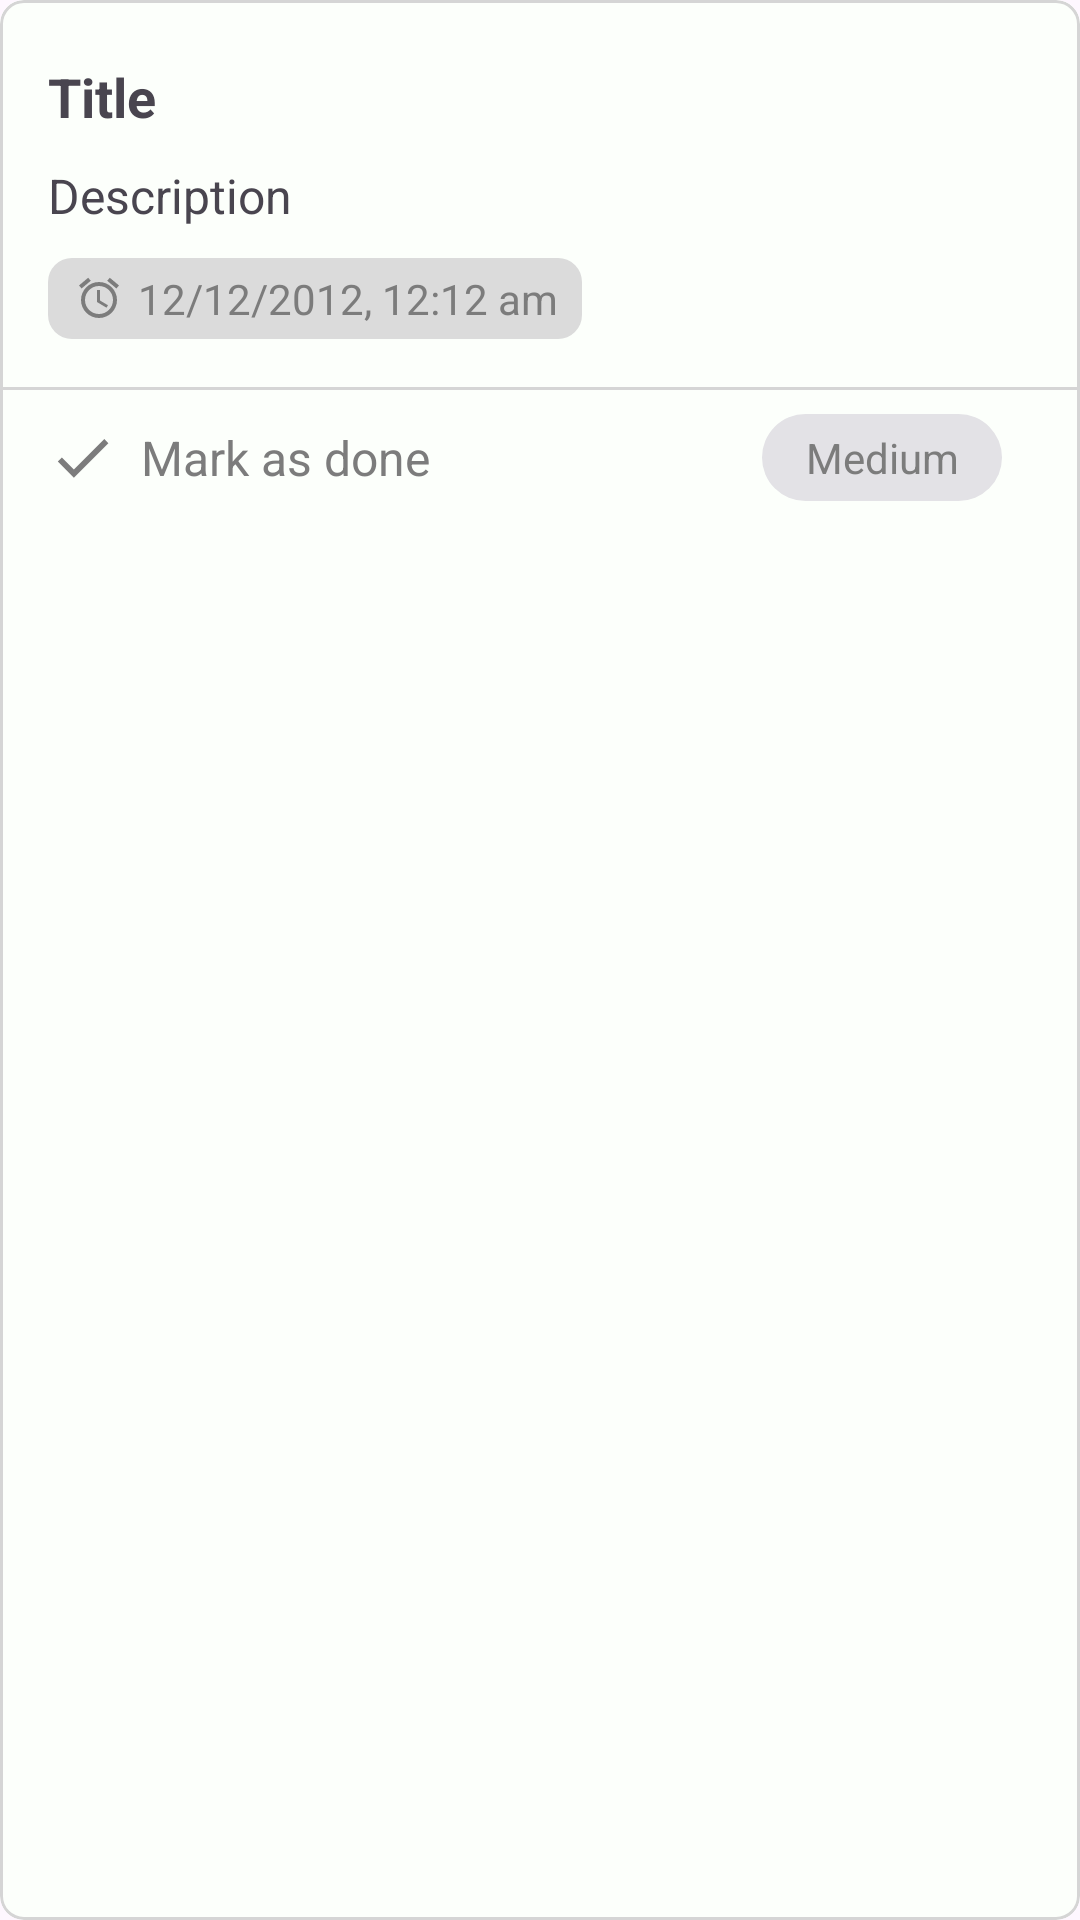

Where to tap for icons on this 1080 x 1920 app screen, as (x=x, y=y):
alarm: (x=99, y=298)
check: (x=83, y=458)
